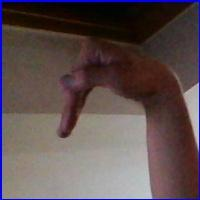del: (54, 36, 176, 146)
